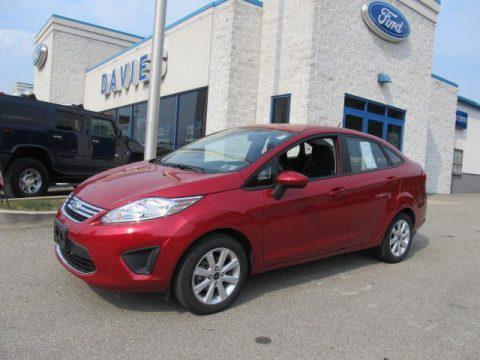Car: (39, 118, 444, 322)
